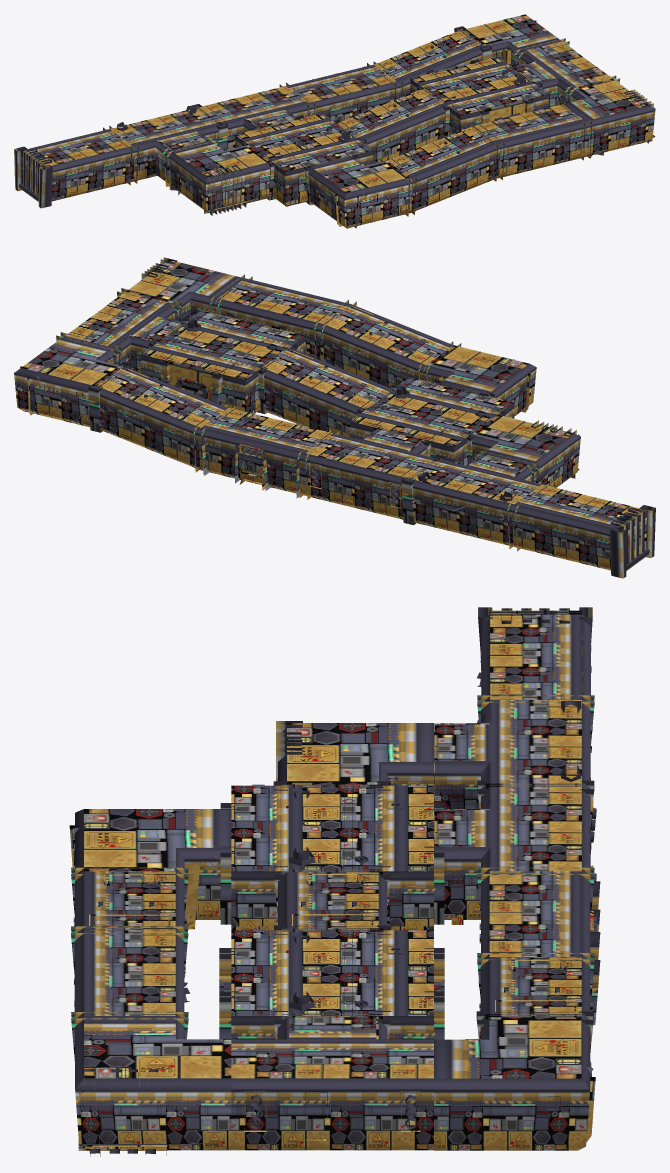
Rendered from Combined_Mesh_root_scene__3_4fde1142__zombies2_diffuse_04_b80f3c78_c1f257.obj.
3 views of the same model, one above another, from view 1: azimuth 30°, elevation 25°; view 2: azimuth 150°, elevation 25°; view 3: azimuth 270°, elevation 25° (orthographic). The views are drawn at different scales.
Bounding box in the file's own units: 117 × 12.76 × 52.4.
Materials: 230 (230 with a texture image).
